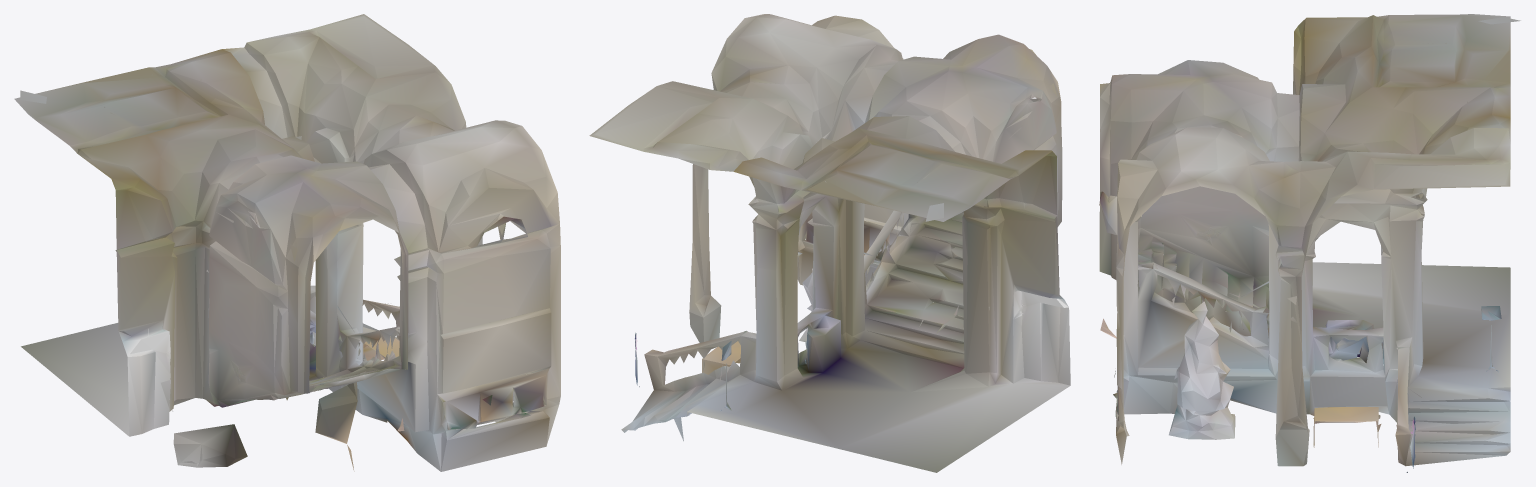
3 renders of one model, left to right at view 1: azimuth 30°, elevation 25°; view 2: azimuth 150°, elevation 25°; view 3: azimuth 270°, elevation 25°, orthographic.
Size of the model in its own units: 10.06 by 8.12 by 10.28.
